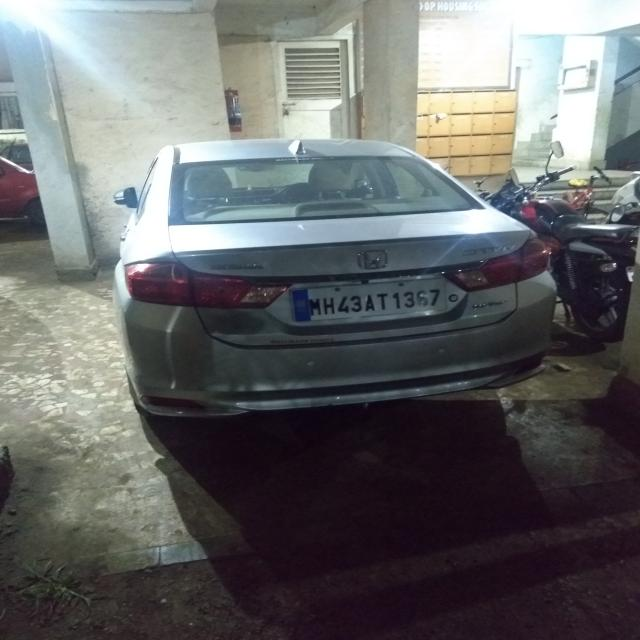Number-Plate: (300, 280, 454, 324)
